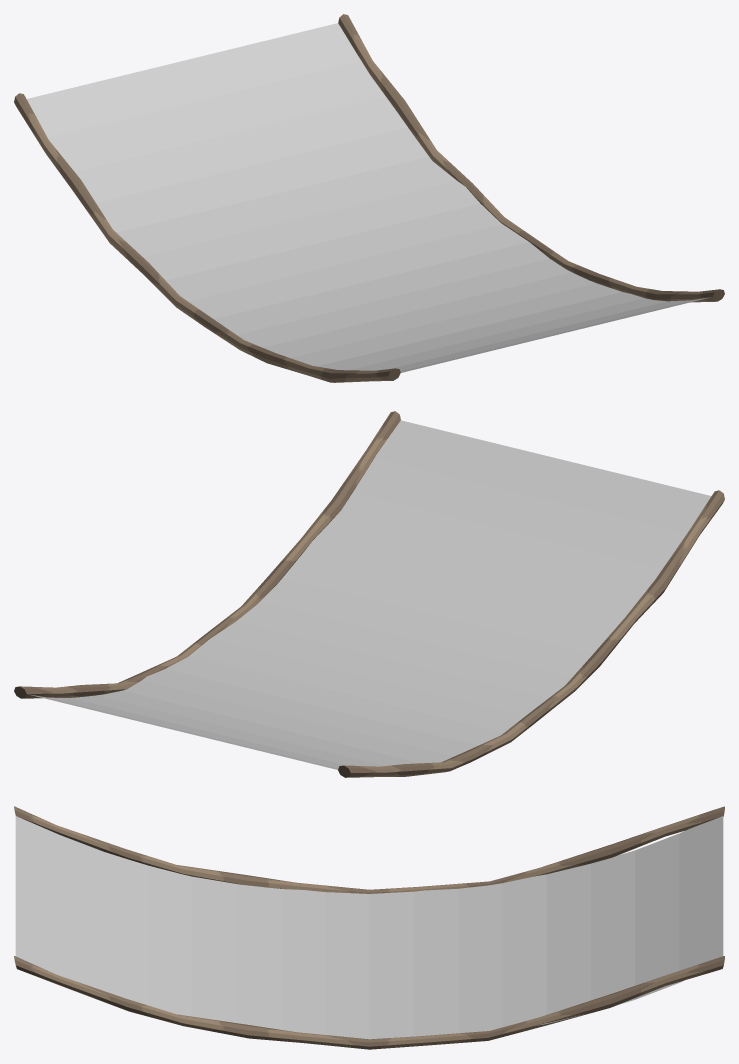
The model's file is SM_Bld_Ropebridge_Net_01.fbx.
The picture shows the model from 3 angles, top to bottom: view 1: azimuth 30°, elevation 25°; view 2: azimuth 150°, elevation 25°; view 3: azimuth 270°, elevation 25°; orthographic projection. The views are drawn at different scales.
Parts seen in each view (by area): view 1: SM_Bld_Ropebridge_Net_01; view 2: SM_Bld_Ropebridge_Net_01; view 3: SM_Bld_Ropebridge_Net_01.
Boxes of the visible parts, <box> form: SM_Bld_Ropebridge_Net_01: <box>14,14,724,382</box>; SM_Bld_Ropebridge_Net_01: <box>14,411,724,777</box>; SM_Bld_Ropebridge_Net_01: <box>14,806,724,1049</box>.
Bounding box in the file's own units: 263 × 72.28 × 502.
